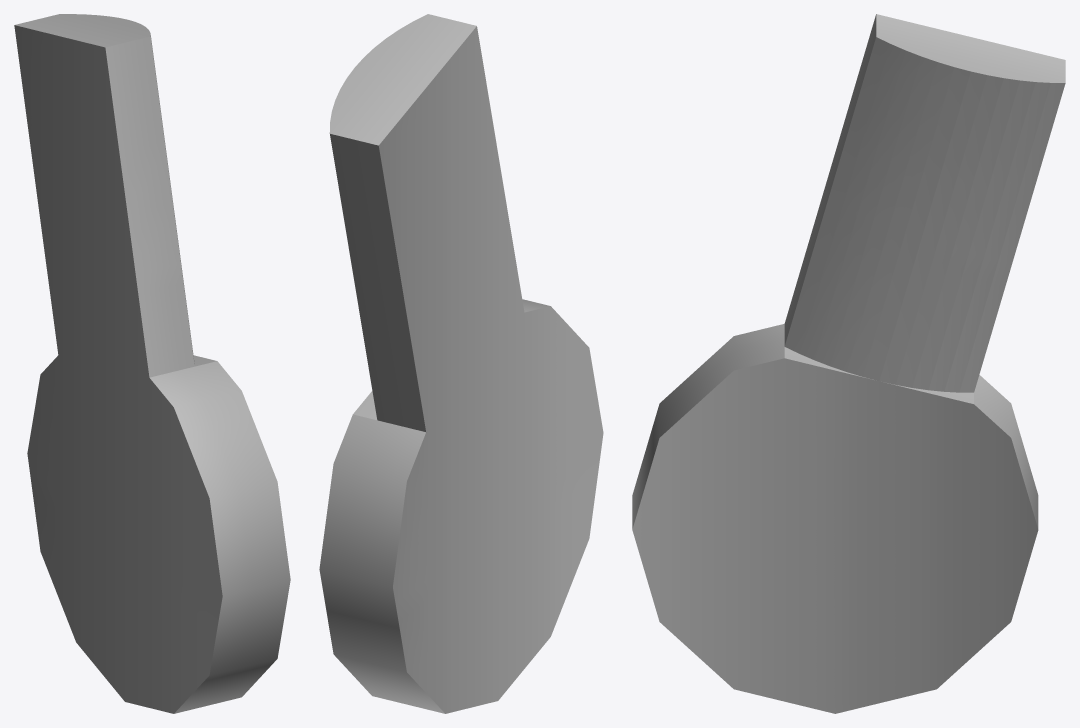
The model's file is original-14.obj.
3 renders of one model, left to right at view 1: azimuth 30°, elevation 25°; view 2: azimuth 150°, elevation 25°; view 3: azimuth 270°, elevation 25°, orthographic. The views are drawn at different scales.
Visible parts, largest first — view 1: mesh25/mesh25-geometry#mesh25-geometry; view 2: mesh25/mesh25-geometry#mesh25-geometry; view 3: mesh25/mesh25-geometry#mesh25-geometry.
Part boxes in pixels (bbox=[...]): mesh25/mesh25-geometry#mesh25-geometry: bbox=[14, 14, 290, 713]; mesh25/mesh25-geometry#mesh25-geometry: bbox=[319, 14, 603, 713]; mesh25/mesh25-geometry#mesh25-geometry: bbox=[632, 14, 1065, 713].
Size of the model in its own units: 0.00641 by 0.0577 by 0.034.
